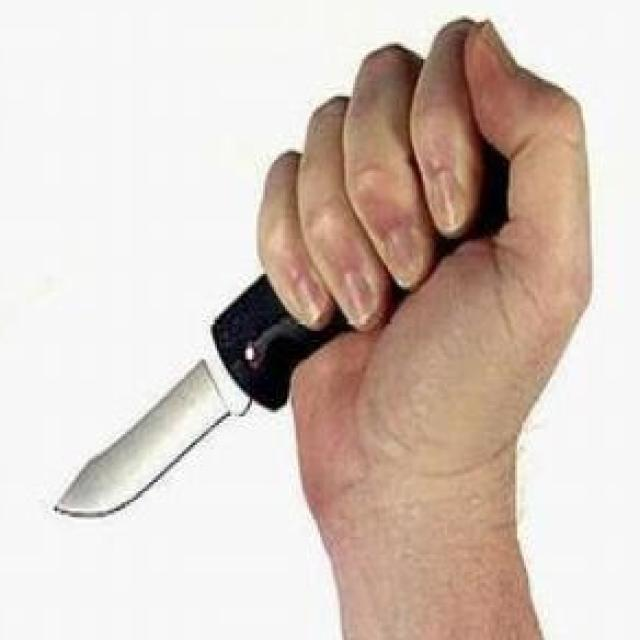knife: (37, 136, 420, 536)
